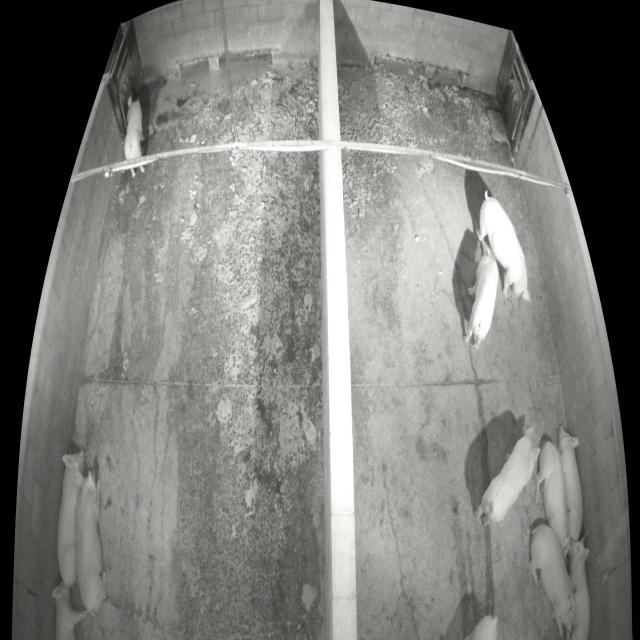pig: (474, 428, 541, 529), (476, 197, 532, 302), (529, 526, 577, 639), (75, 471, 106, 612), (56, 449, 85, 588), (462, 243, 498, 353), (534, 440, 570, 545), (563, 533, 591, 639), (559, 424, 584, 539), (51, 582, 87, 639), (124, 95, 145, 177), (468, 613, 498, 638)
